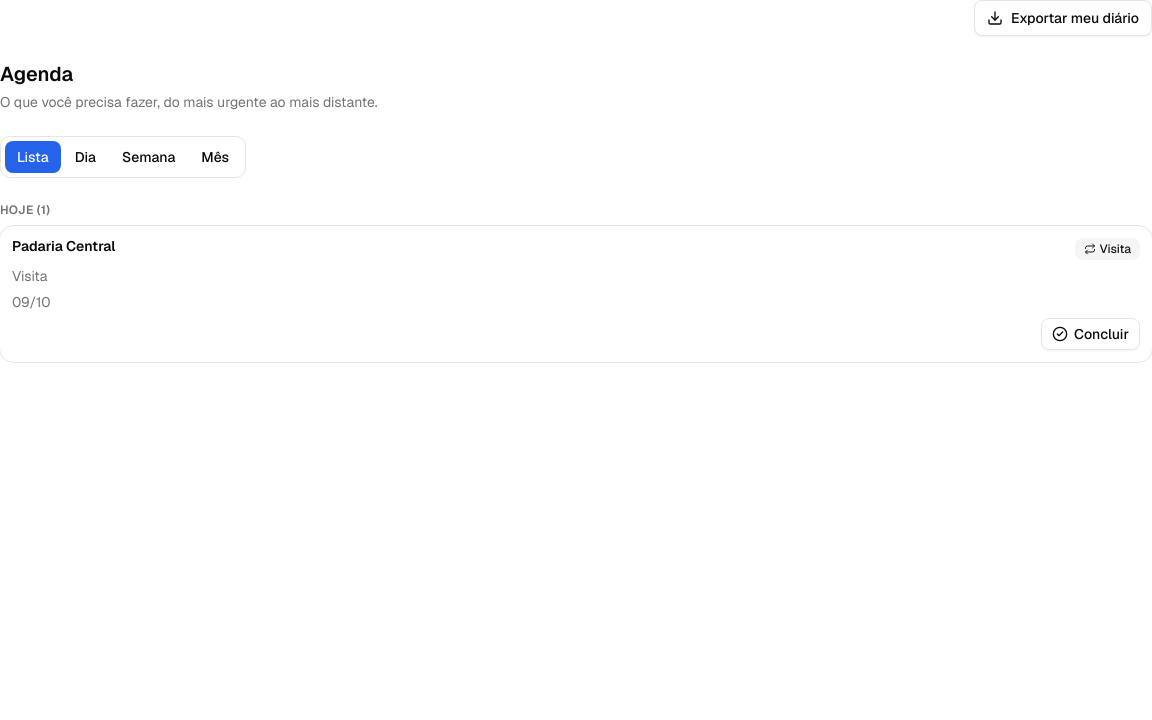
Test case: AgendaList + AgendaCalendario (integração, plano 20-05) › concluir pela visão de Dia abre a mesma janela de conclusão que a Lista abre
Expected: the text "Padaria Central" is shown, top-left (12, 237), bottom-right (116, 255)
Click the button "Dia".
click(85, 157)  # box top-left (63, 141), bottom-right (108, 173)
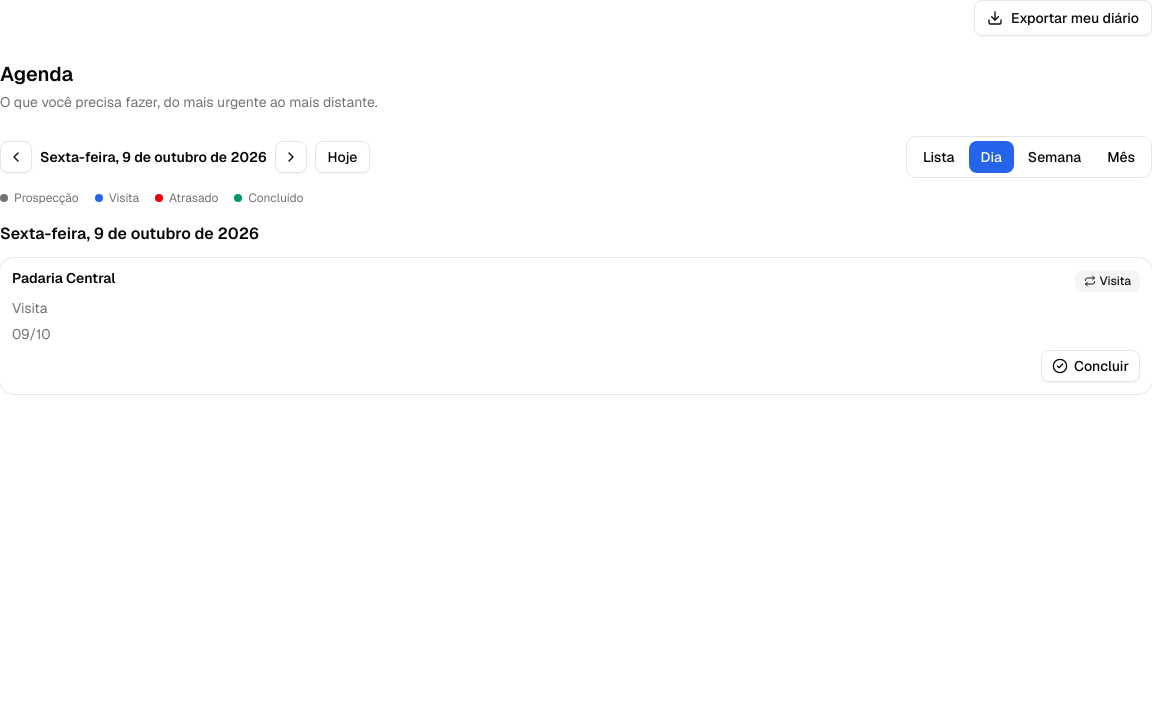
Expected: the text "Padaria Central" is shown, top-left (12, 269), bottom-right (116, 287)
Click the button "Concluir".
click(1091, 366)  # box top-left (1041, 350), bottom-right (1140, 382)
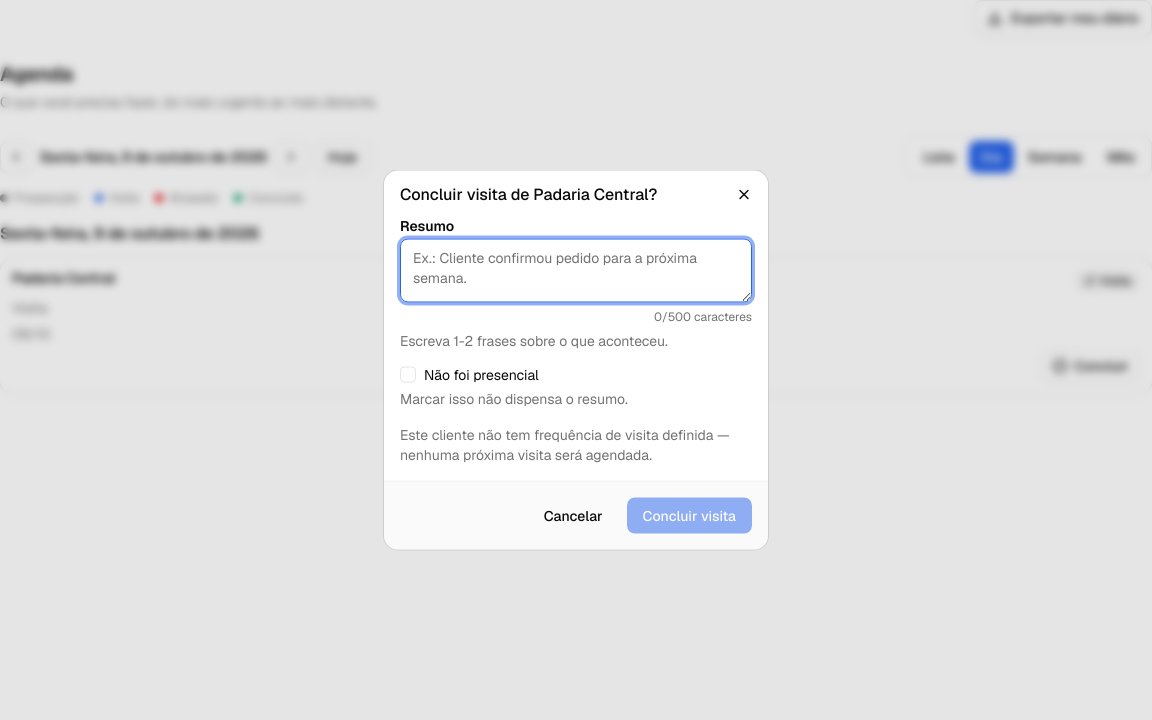
Expected: the heading "Concluir visita de Padaria Central?" is shown, top-left (400, 184), bottom-right (657, 204)
